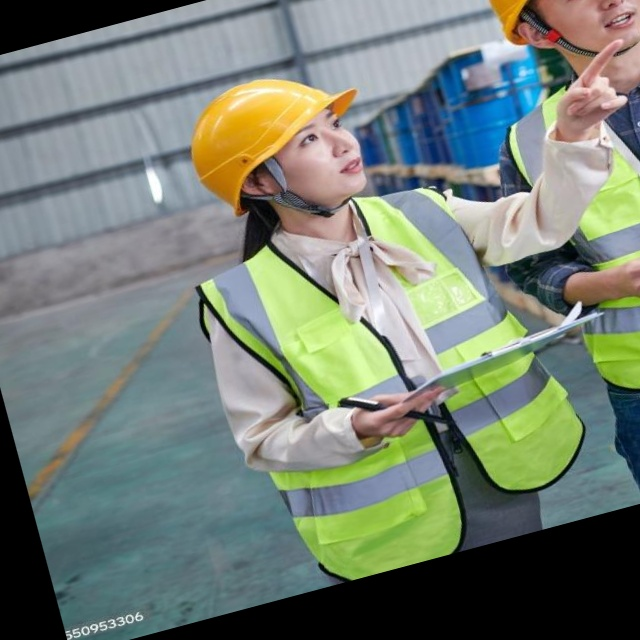Con_Casco: (175, 53, 389, 238)
Con_Chaleco: (194, 165, 601, 568), (497, 49, 640, 404)
